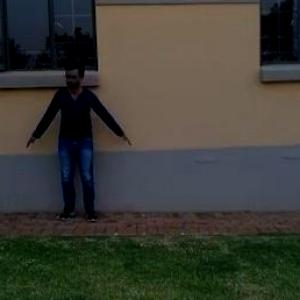land: (34, 54, 144, 240)
